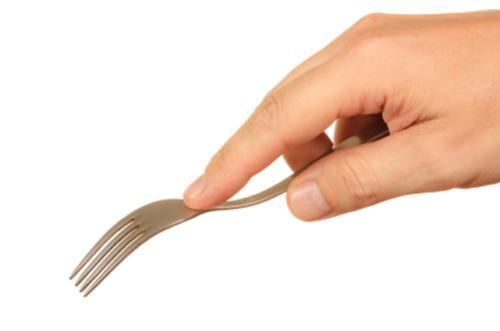Fork: (67, 120, 390, 297)
